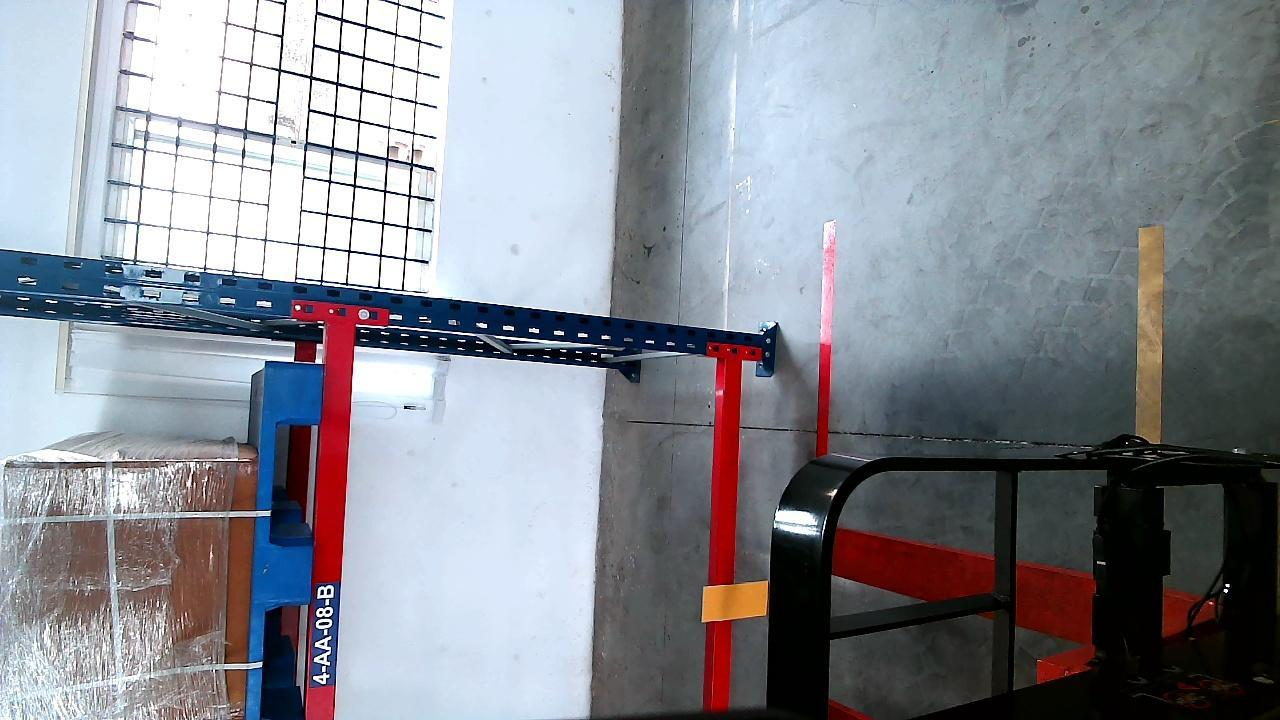red_line: (816, 223, 837, 458)
yellow_line: (1138, 220, 1163, 444)
